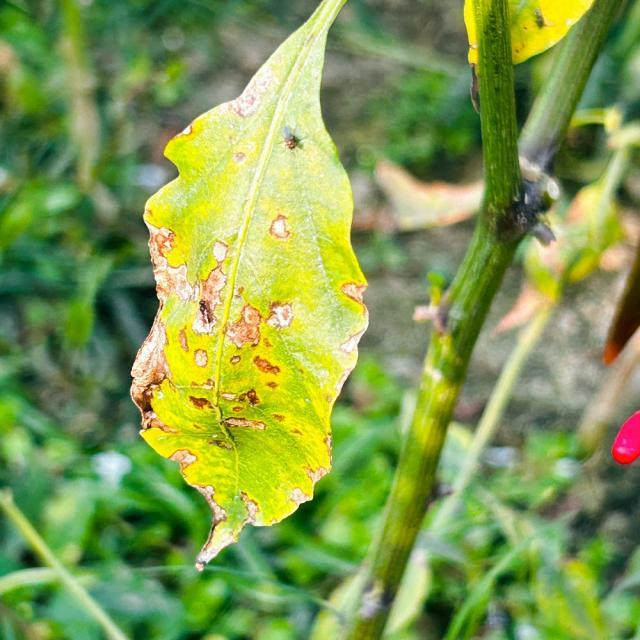Bercak Daun Serkospora: (128, 0, 370, 571)
